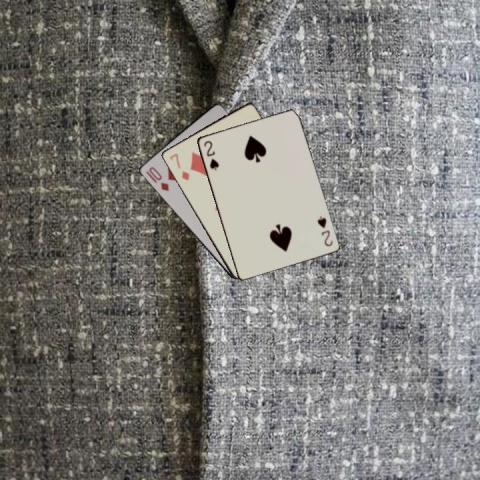10d: (145, 163, 170, 193)
2s: (314, 214, 334, 248), (201, 137, 220, 172)
7d: (166, 151, 191, 182)
